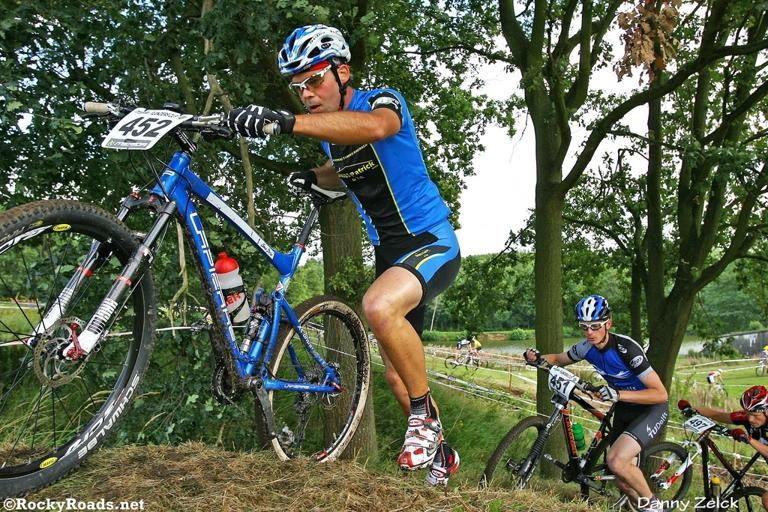non-vehicle: (0, 96, 375, 495), (474, 346, 647, 510), (632, 399, 767, 511), (443, 341, 480, 372), (705, 382, 729, 400), (755, 355, 767, 378)
